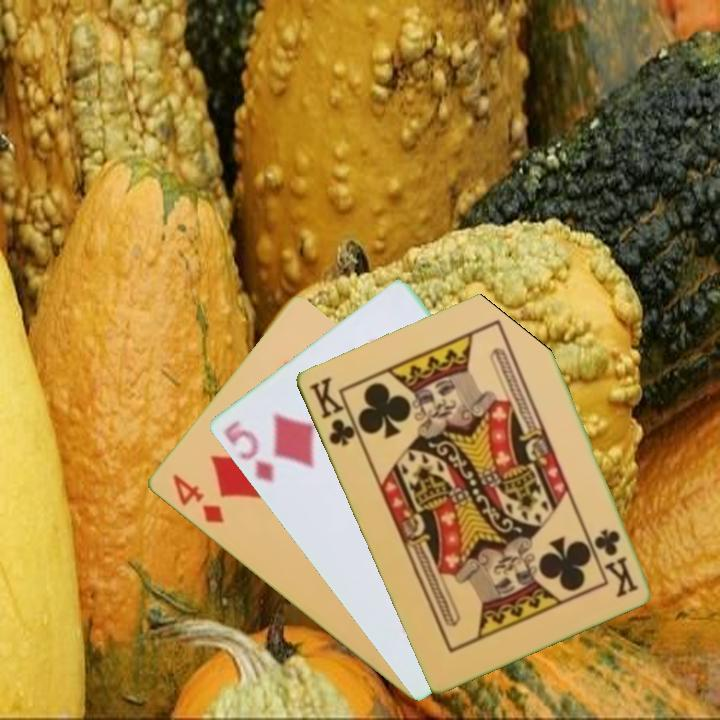4d: (168, 470, 226, 527)
5d: (219, 416, 277, 485)
Kc: (305, 373, 363, 449), (591, 525, 641, 600)
